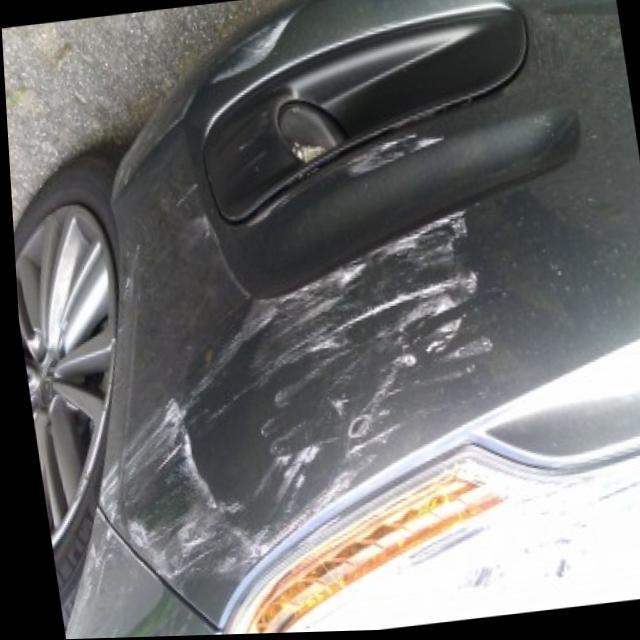Scratch: (106, 221, 475, 587)
